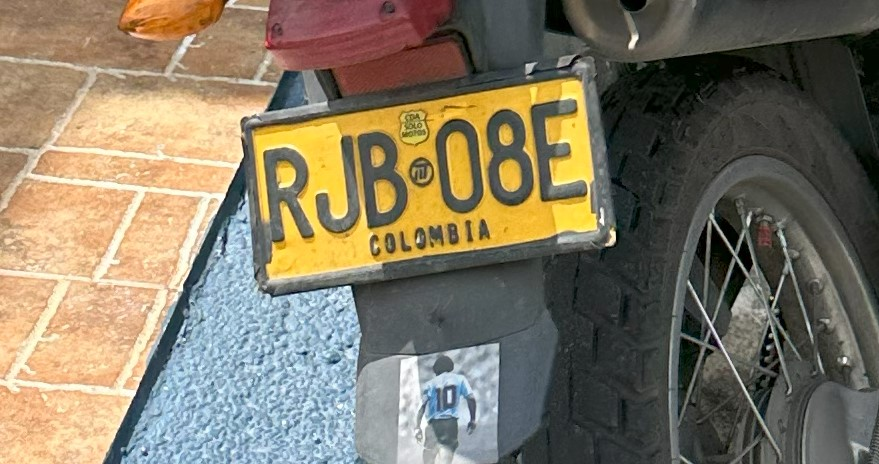number plate: (243, 59, 614, 293)
